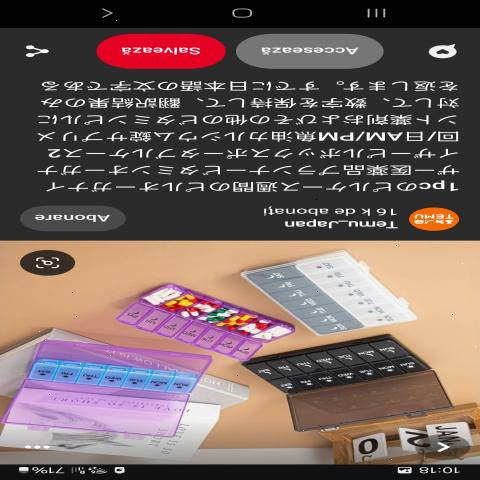PillBox: (237, 339, 445, 396)
